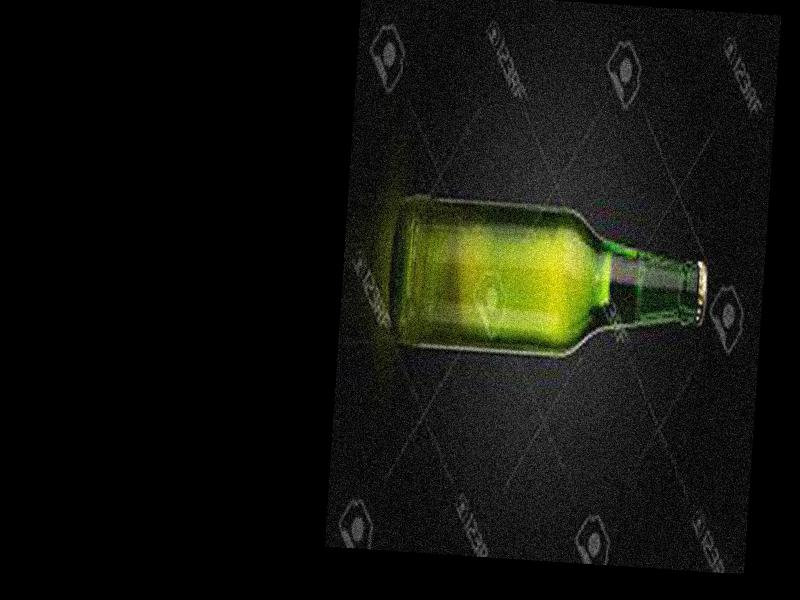Beer: (388, 198, 712, 369)
